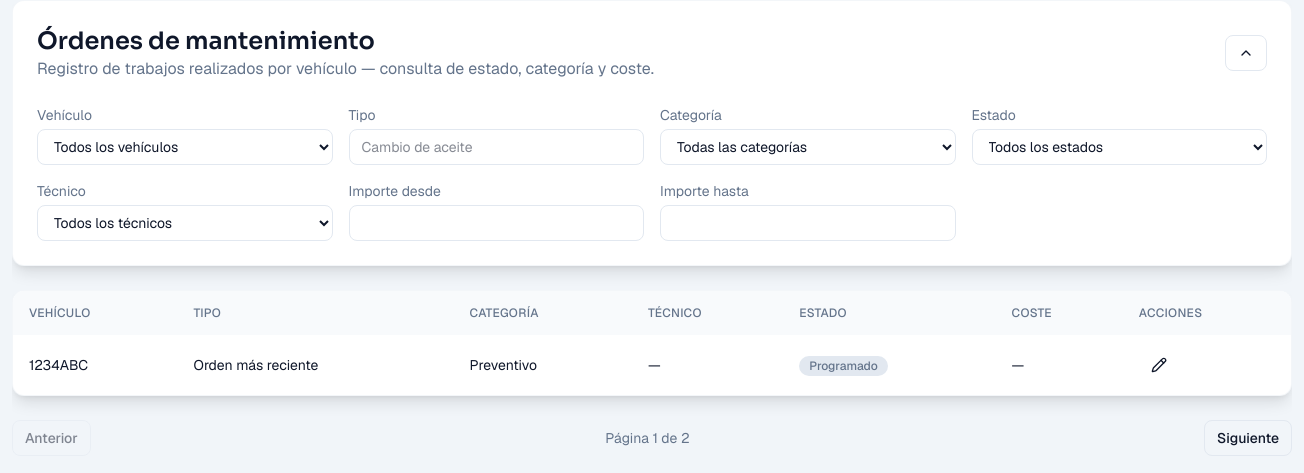
Test case: MaintenanceOrders › paginates the maintenance orders table when there is more than one page
Check: the text "Orden más reciente" is shown, box x1=178 y1=335 x2=454 y2=395
Check: the text "Página 1 de 2" is shown, box x1=605 y1=428 x2=690 y2=448
Click the button "Siguiente". click: (1248, 438)
box: x1=1204 y1=420 x2=1292 y2=456
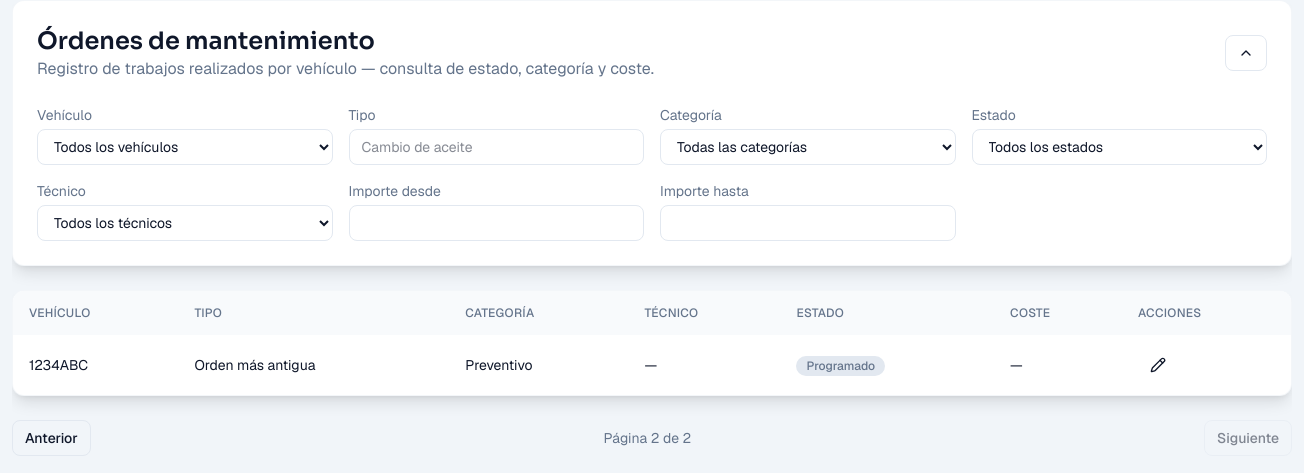
Check: the text "Orden más antigua" is shown, box x1=178 y1=335 x2=449 y2=395
Check: the text "Página 2 de 2" is shown, box x1=604 y1=428 x2=691 y2=448
Check: the button "Siguiente" is disabled, box x1=1204 y1=420 x2=1292 y2=456
